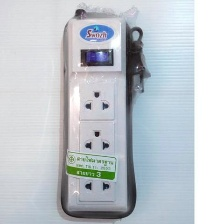three_eye_plug: (60, 10, 132, 217)
